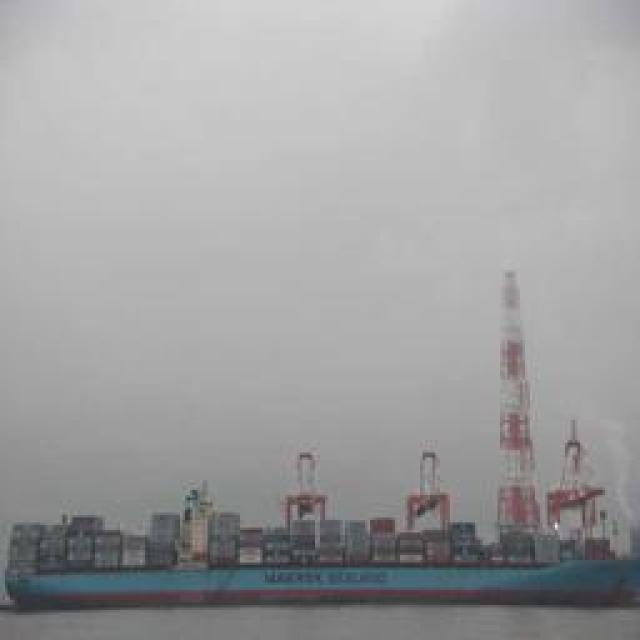CIV_Ship: (5, 448, 630, 612)
